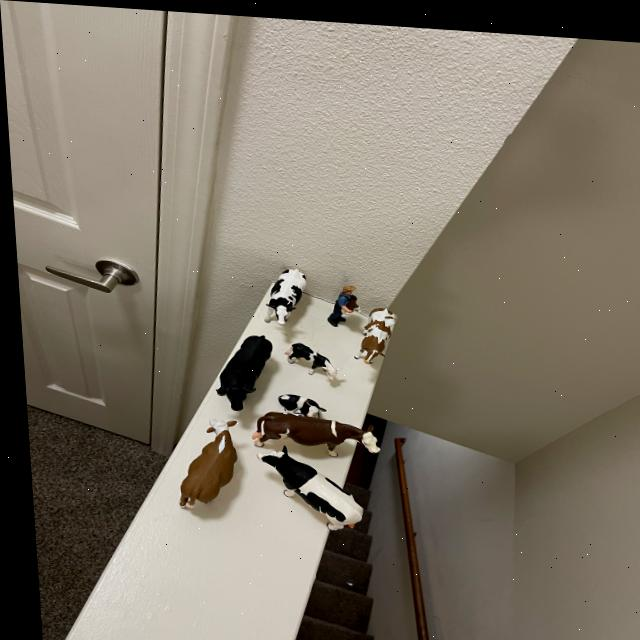cow: (245, 435, 363, 536), (168, 408, 244, 518), (245, 405, 377, 459), (202, 324, 278, 411), (250, 258, 309, 328), (348, 298, 395, 363), (277, 334, 337, 383), (270, 387, 323, 418), (333, 288, 358, 312)
person: (321, 288, 352, 325)
